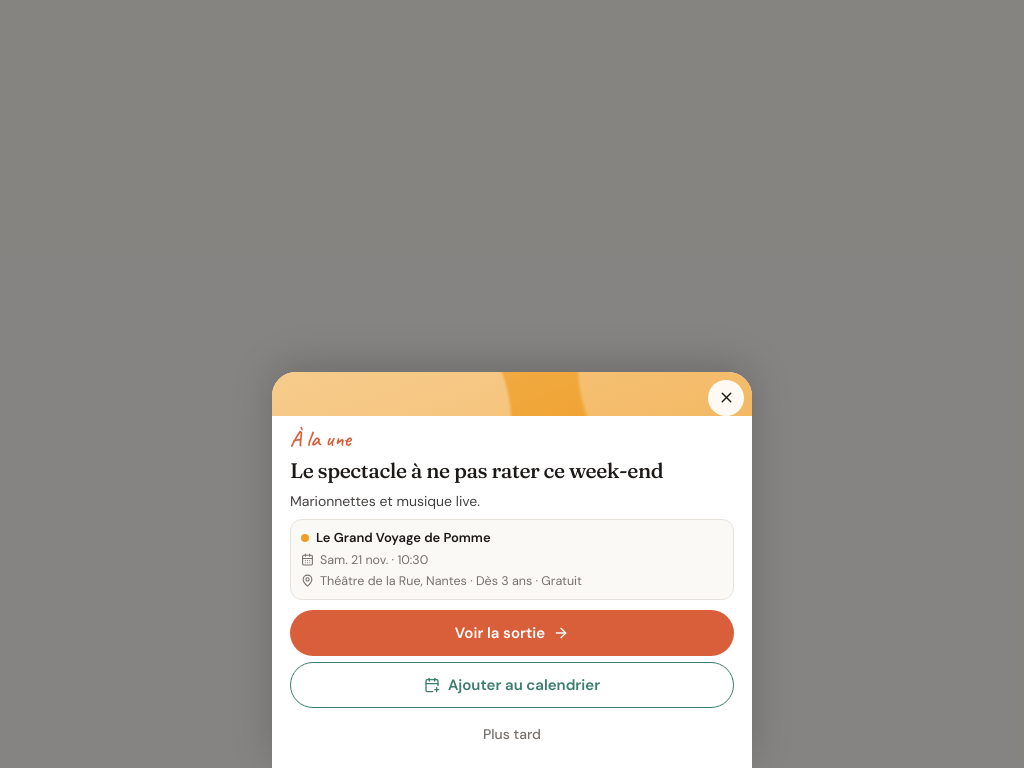
Scenario: EventSpotlightSheet › « Ajouter au calendrier » télécharge le fichier, journalise et passe en « Ajoutée à ton agenda »
Later steps or results of the test are not shown.
Click the button "Ajouter au calendrier" at (512, 685), box [290,662,734,708]
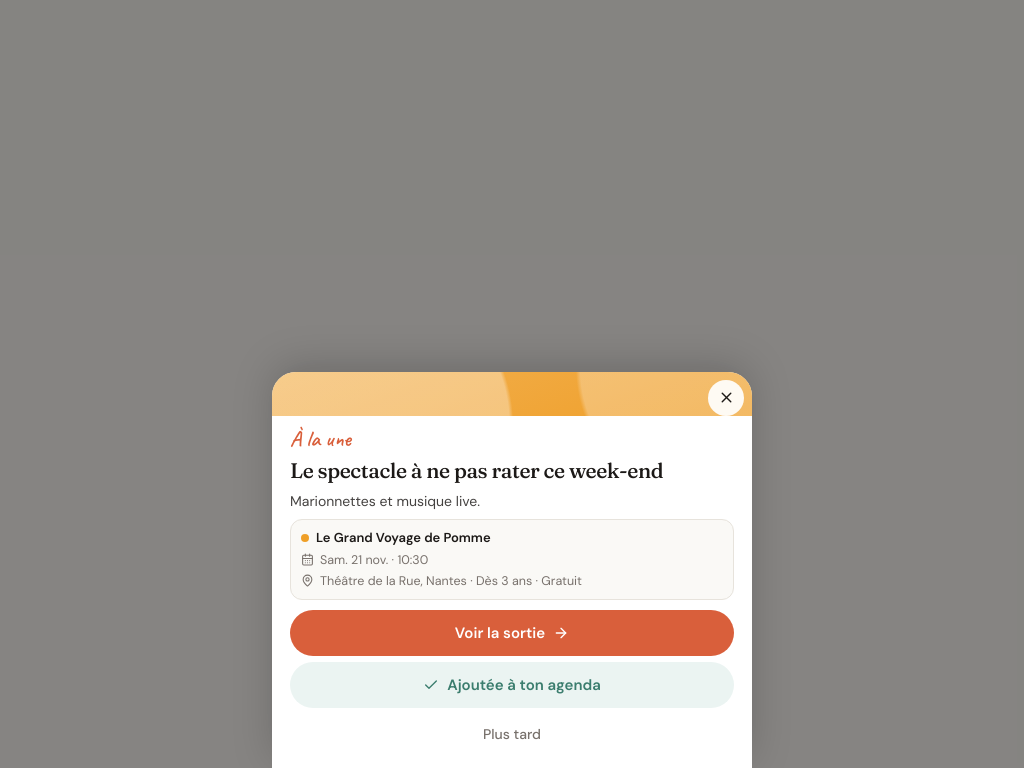
Expected: the dialog shows "Ajoutée à ton agenda", [290,662,734,708]
